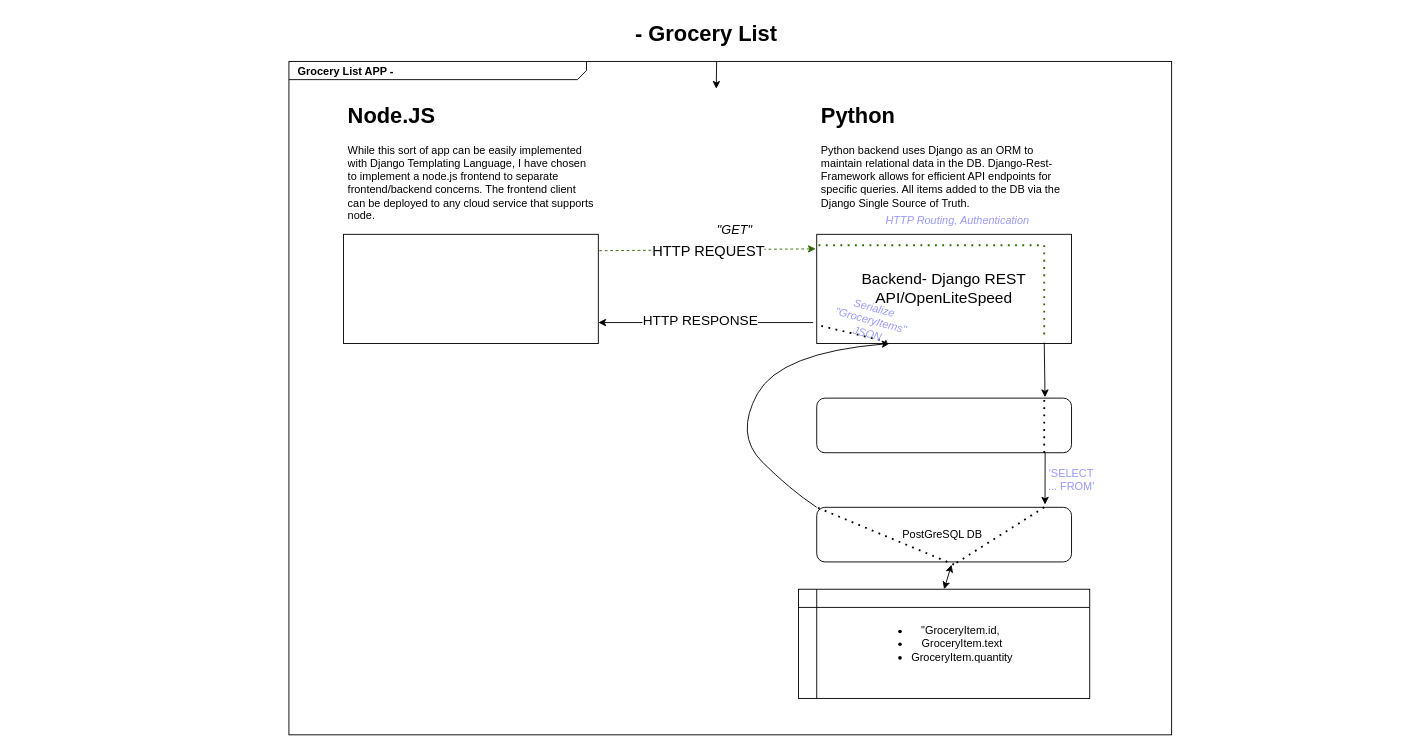
Some shapes in this 1405 by 751 pixel diagram are drawn without their labels. Each missing label, with the box of its shape:
Django ORM Mapping/Query: (816, 397, 1072, 453)
Frontend - React.js app: (343, 233, 598, 344)
